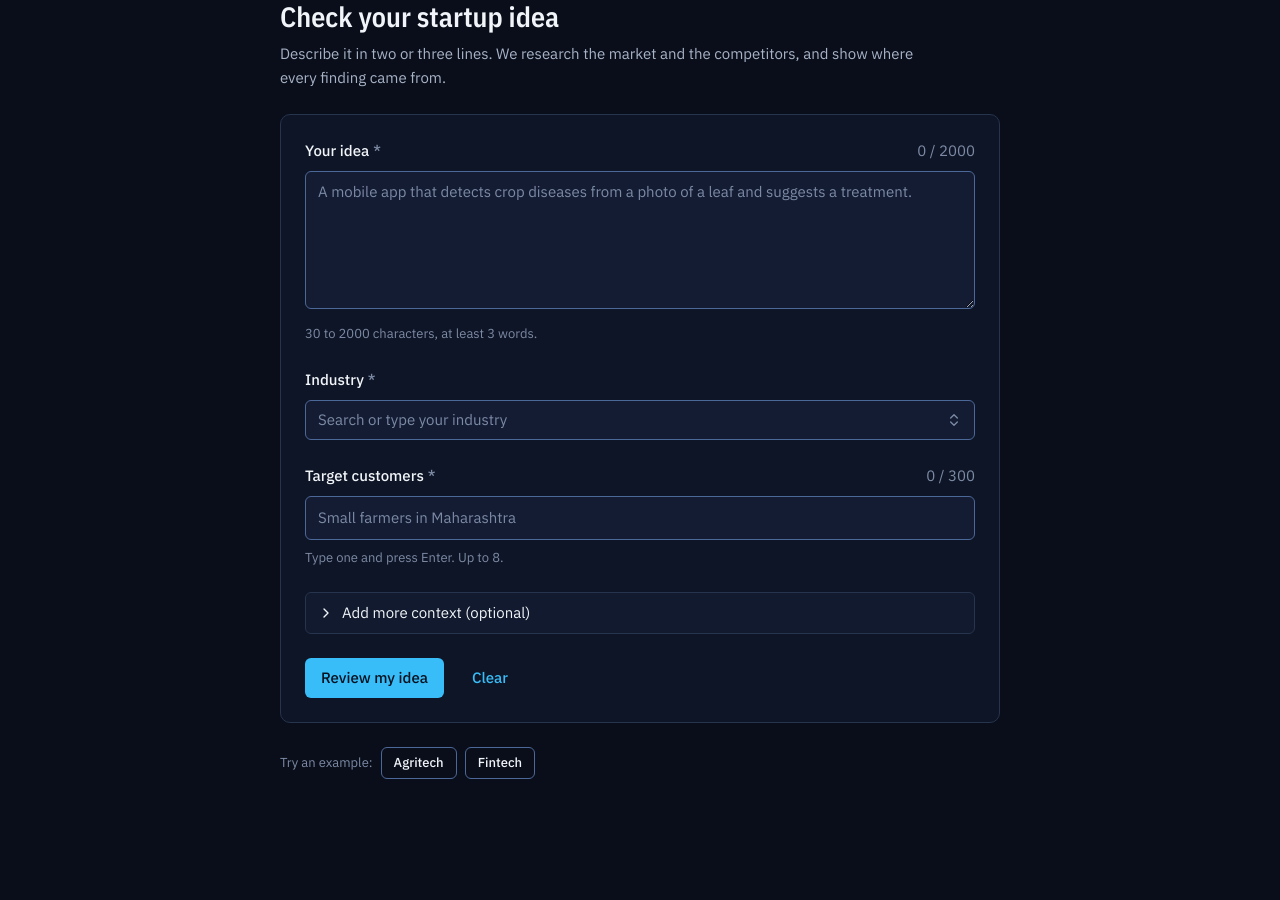
Test: New validation: the industry combobox › searches the list
Click the dropdown labelled "Search or type your industry" at {"x": 413, "y": 420}, box [305, 400, 975, 440]
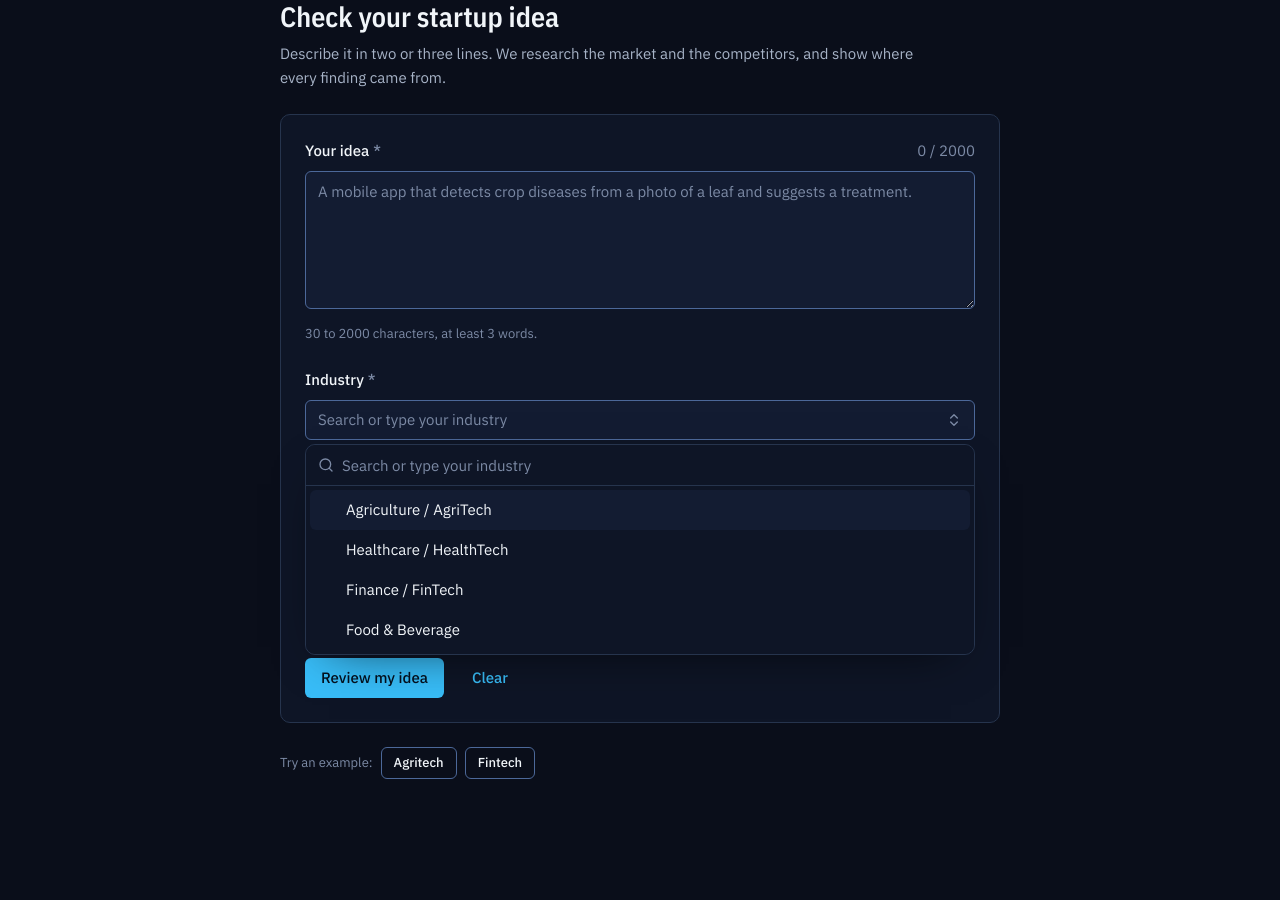
Type "health" into the 2nd dropdown with placeholder "Search or type your industry" at {"x": 652, "y": 465}, box [342, 445, 962, 485]
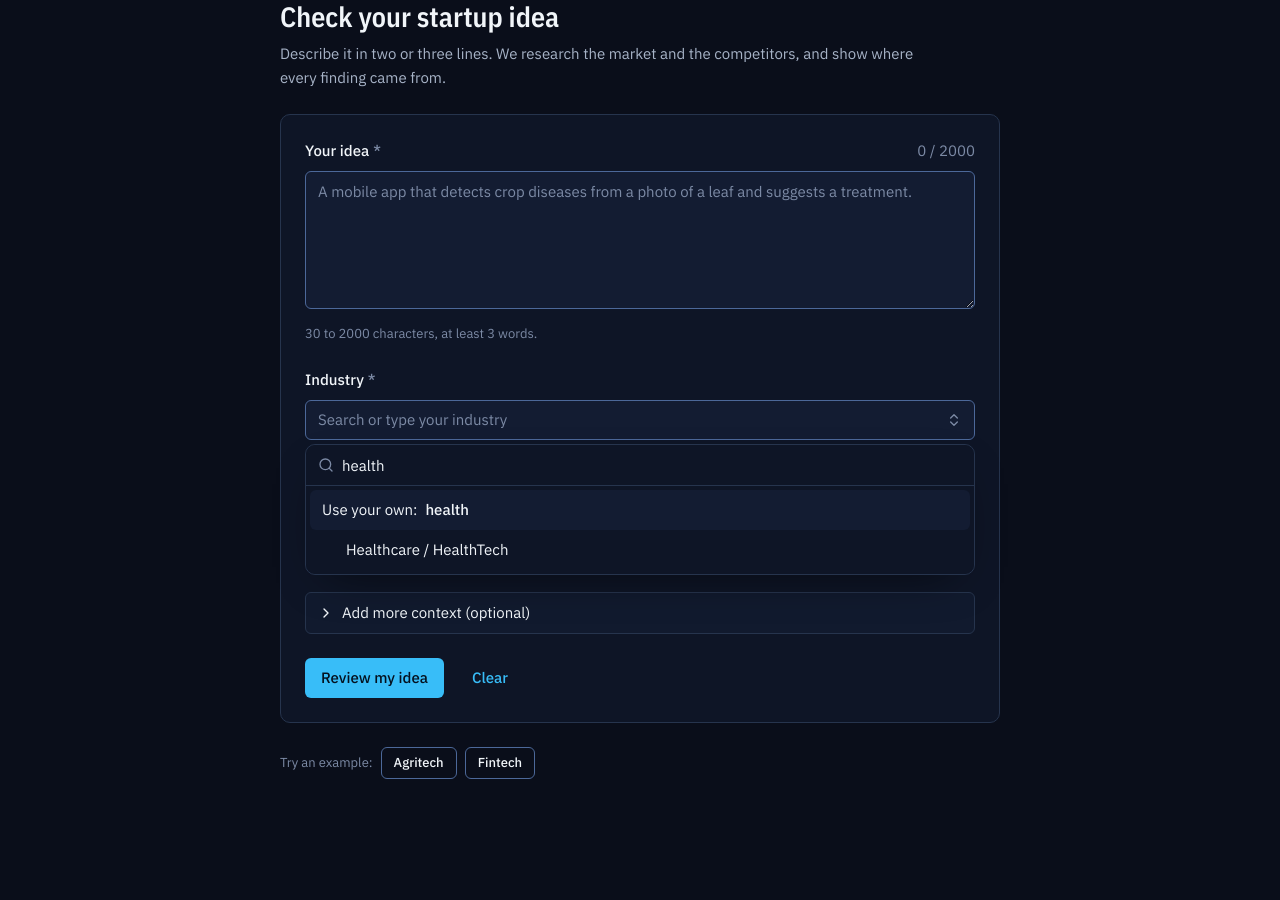
expect the option "Healthcare / HealthTech" is shown: met, box [346, 540, 508, 559]
expect the option "Finance / FinTech" is gone: met
